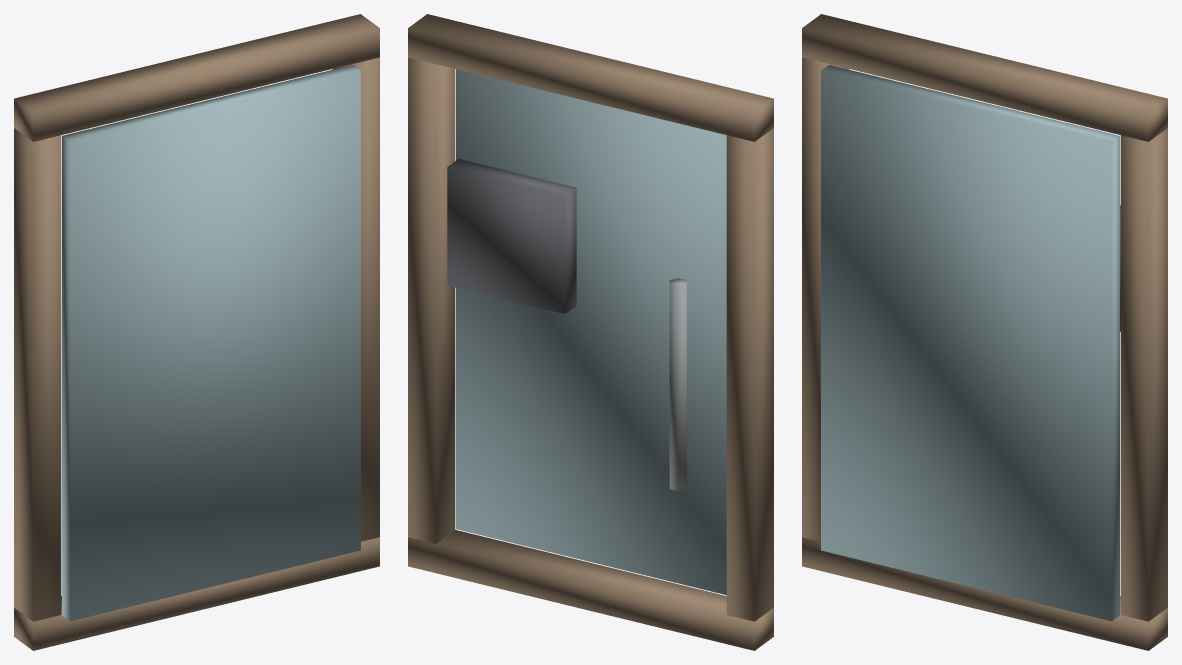
The model's file is motel_wall_mirror__service.glb.
3 views of the same model, side by side, from view 1: azimuth 30°, elevation 25°; view 2: azimuth 150°, elevation 25°; view 3: azimuth 330°, elevation 25° (orthographic).
Visible parts, largest first — view 1: world; view 2: world; view 3: world.
Part boxes in pixels (x1,y1,x2,y2): world: (14,14,379,650); world: (408,14,773,650); world: (802,14,1167,650).
Bounding box in the file's own units: 0.62 × 0.92 × 0.105.
